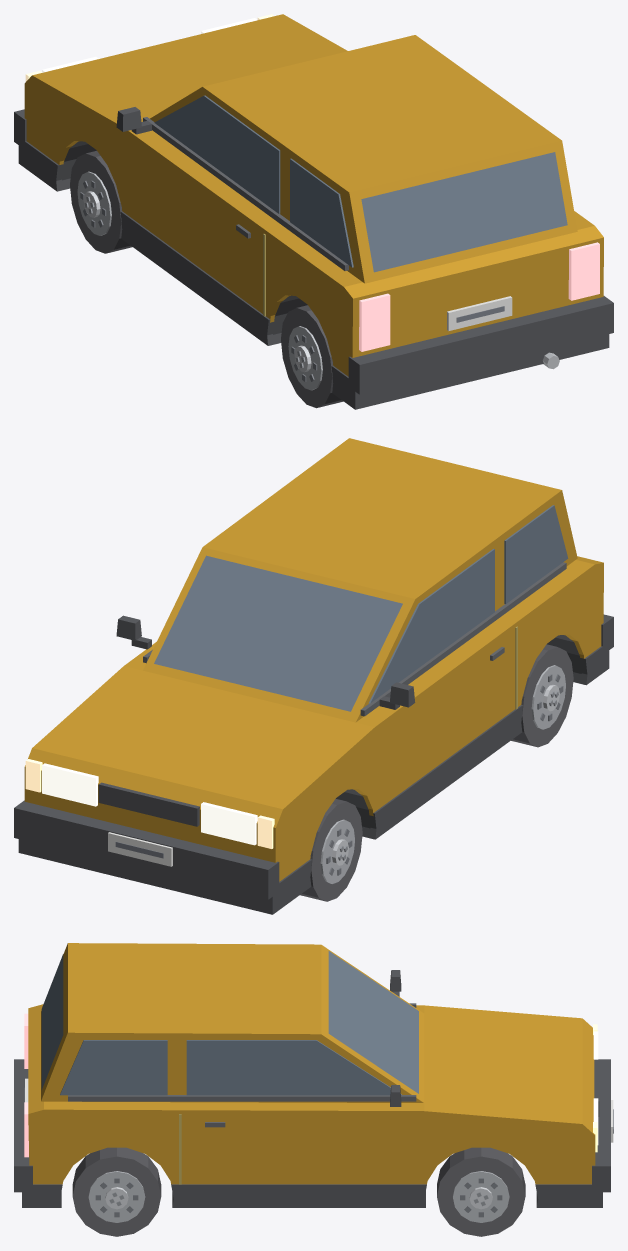
File: chabuk.glb
3 renders of one model, top to bottom at view 1: azimuth 30°, elevation 25°; view 2: azimuth 150°, elevation 25°; view 3: azimuth 270°, elevation 25°, orthographic. The views are drawn at different scales.
Visible parts, largest first — view 1: Body, Rim, Rim3; view 2: Body, Rim, Rim3; view 3: Body, Rim4, Rim2.
Part boxes in pixels (box(x1,y1,x2,y2)): Body: box(14, 14, 613, 409); Rim: box(70, 150, 132, 253); Rim3: box(281, 305, 343, 408); Body: box(14, 438, 613, 914); Rim: box(300, 799, 362, 901); Rim3: box(511, 644, 573, 747); Body: box(14, 943, 613, 1207); Rim4: box(72, 1147, 161, 1236); Rim2: box(437, 1147, 525, 1236).
Size of the model in its own units: 1.84 by 1.38 by 3.79.
